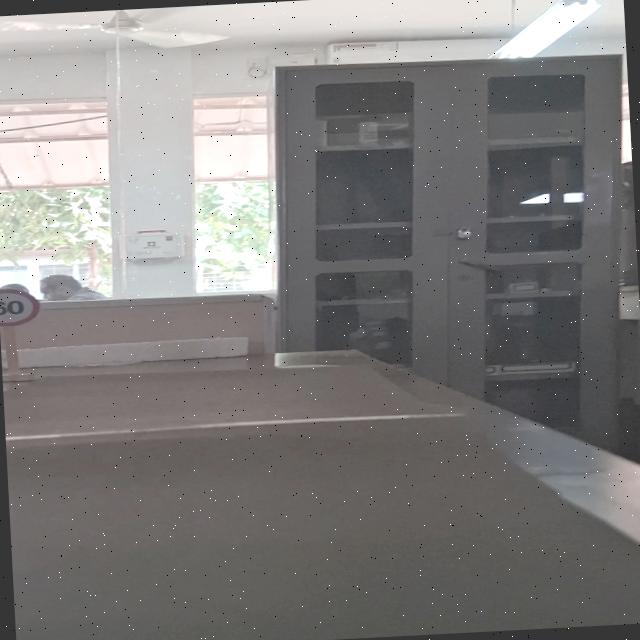Speed60: (0, 286, 44, 328)
